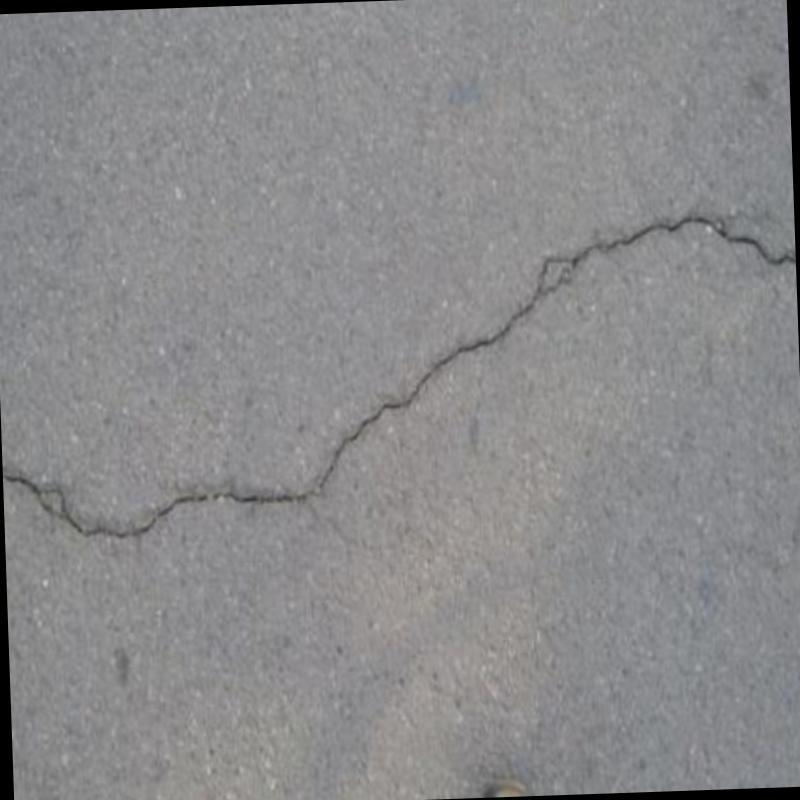pothole: (3, 212, 795, 535)
